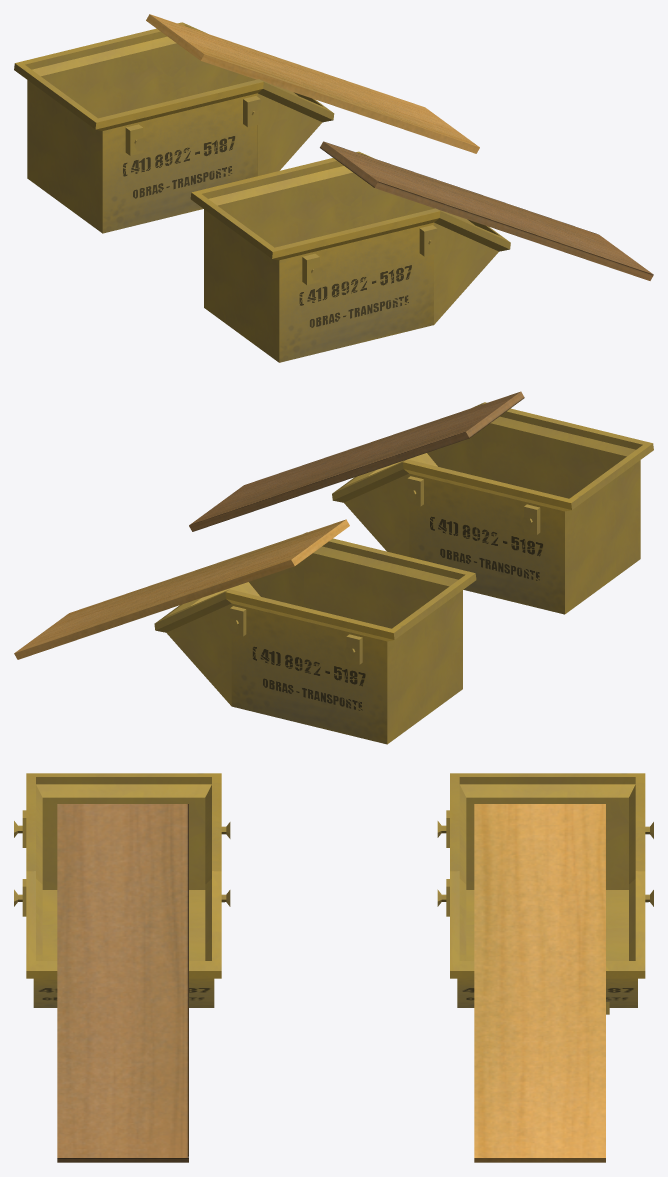
Rendered from Cacamba_rampa.fbx.
3 renders of one model, top to bottom at view 1: azimuth 30°, elevation 25°; view 2: azimuth 150°, elevation 25°; view 3: azimuth 270°, elevation 25°, orthographic. The views are drawn at different scales.
Parts seen in each view (by area): view 1: Cube.003, Cube, Cube.001, Cube.002; view 2: Cube, Cube.003, Cube.002, Cube.001; view 3: Cube.002, Cube.001, Cube.003, Cube.
Part boxes in pixels (x1,y1,x2,y2): Cube.003: [190, 151, 510, 362]; Cube: [14, 22, 334, 233]; Cube.001: [320, 141, 653, 280]; Cube.002: [146, 14, 479, 153]; Cube: [154, 532, 476, 744]; Cube.003: [332, 402, 653, 614]; Cube.002: [14, 519, 349, 659]; Cube.001: [189, 391, 524, 531]; Cube.002: [474, 804, 605, 1162]; Cube.001: [57, 804, 188, 1162]; Cube.003: [14, 773, 230, 1007]; Cube: [437, 773, 653, 1014].
Bounding box in the file's own units: 430 × 173 × 503.
